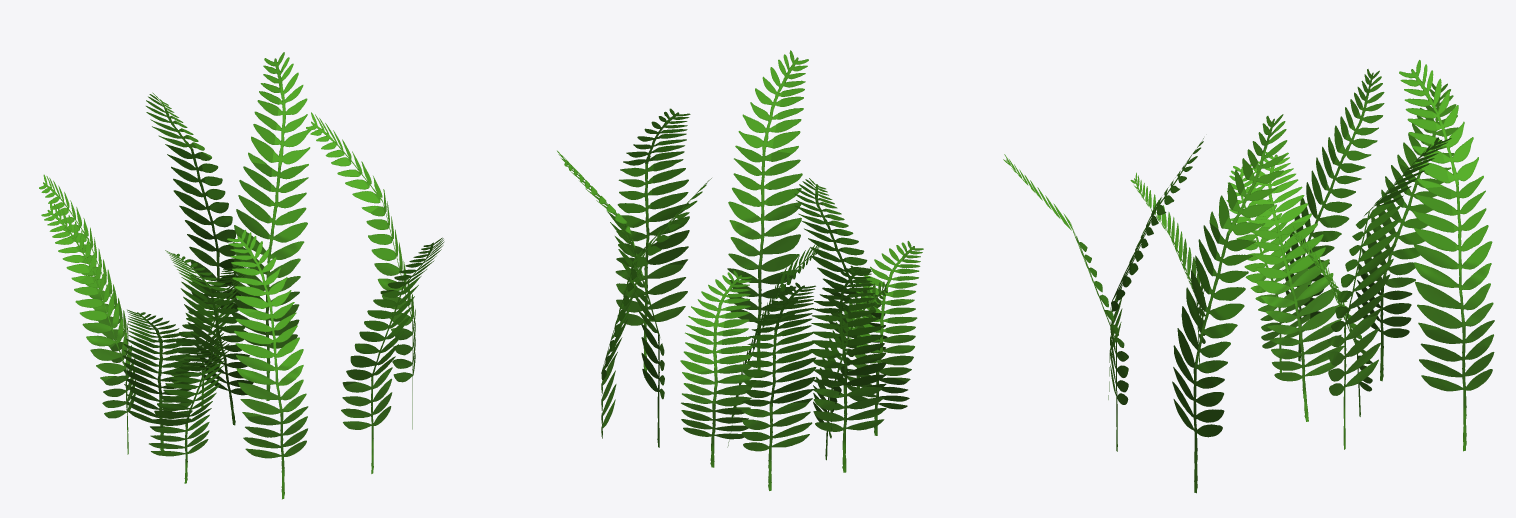
The model's file is FernMedium1.fbx.
3 views of the same model, side by side, from view 1: azimuth 30°, elevation 25°; view 2: azimuth 150°, elevation 25°; view 3: azimuth 270°, elevation 25° (orthographic). The views are drawn at different scales.
Parts seen in each view (by area): view 1: FernMedium1; view 2: FernMedium1; view 3: FernMedium1.
Part boxes in pixels (x1=…): FernMedium1: x1=39, y1=52, x2=444, y2=499; FernMedium1: x1=557, y1=50, x2=923, y2=490; FernMedium1: x1=1003, y1=60, x2=1494, y2=493.
Bounding box in the file's own units: 0.9827 × 0.9066 × 1.16.
